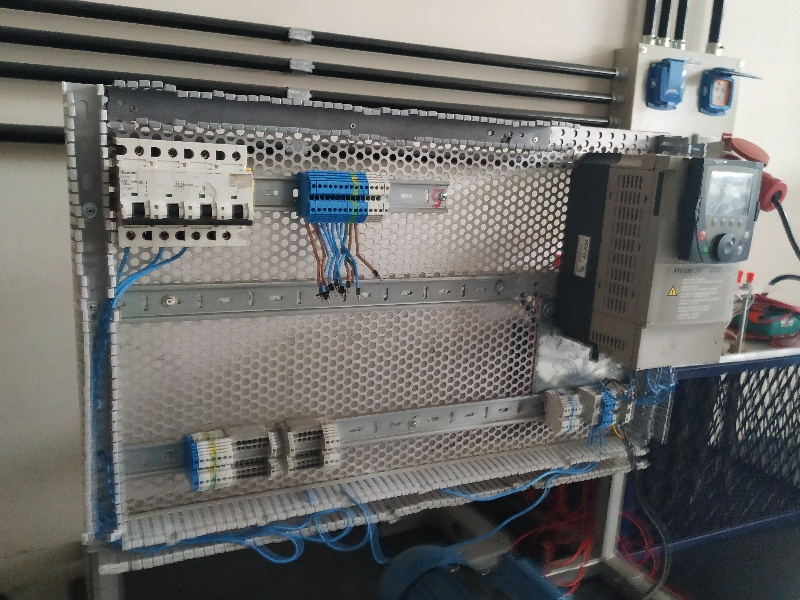Tablero 0: (101, 100, 759, 517)
